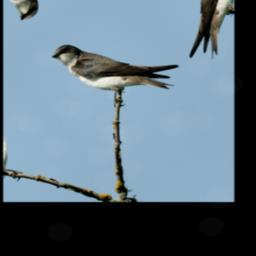Swallow: (49, 0, 188, 130)
